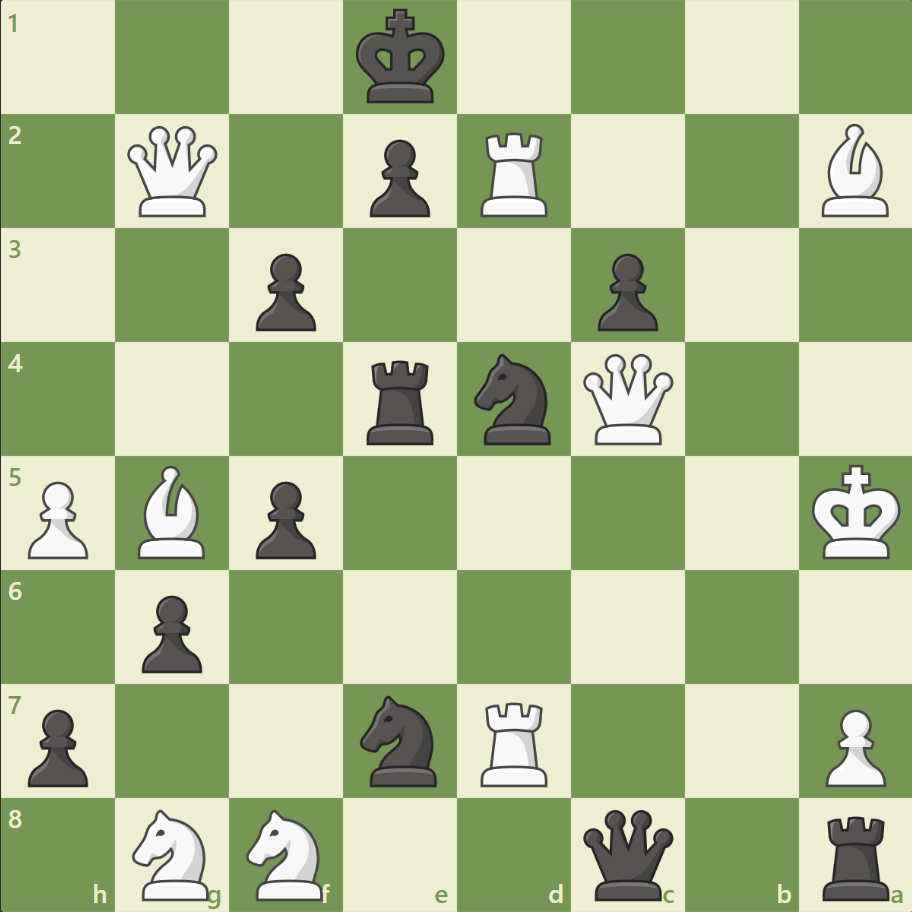B: (131, 460, 215, 563), (812, 120, 896, 222)
K: (806, 458, 906, 566)
N: (124, 802, 222, 904), (238, 802, 335, 904)
P: (20, 473, 95, 564), (815, 700, 889, 791)
Q: (578, 349, 677, 449), (124, 122, 223, 222)
R: (473, 693, 556, 790), (473, 125, 556, 222)
k: (351, 4, 451, 112)
n: (351, 688, 449, 791), (465, 348, 562, 450)
p: (20, 700, 95, 791), (133, 586, 208, 677), (247, 473, 322, 564), (247, 246, 322, 337), (588, 246, 662, 337), (361, 132, 435, 223)
q: (578, 804, 677, 903)
r: (814, 806, 897, 904), (360, 352, 442, 449)
